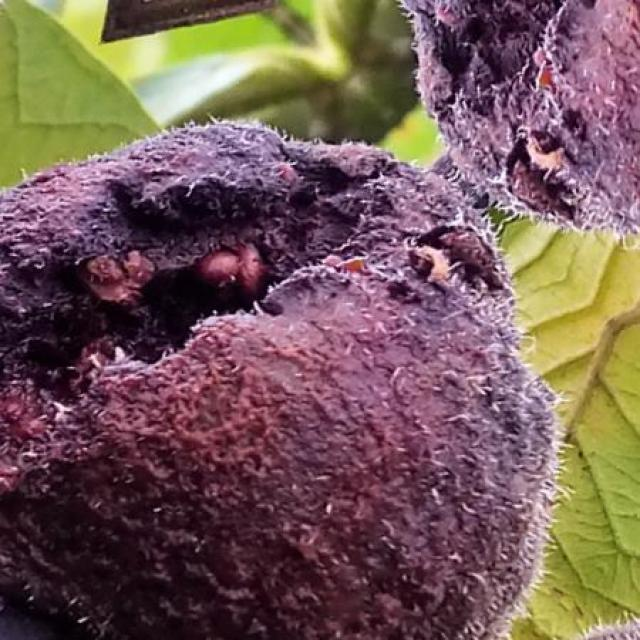Phytopthora: (0, 122, 554, 640), (402, 0, 640, 232)
